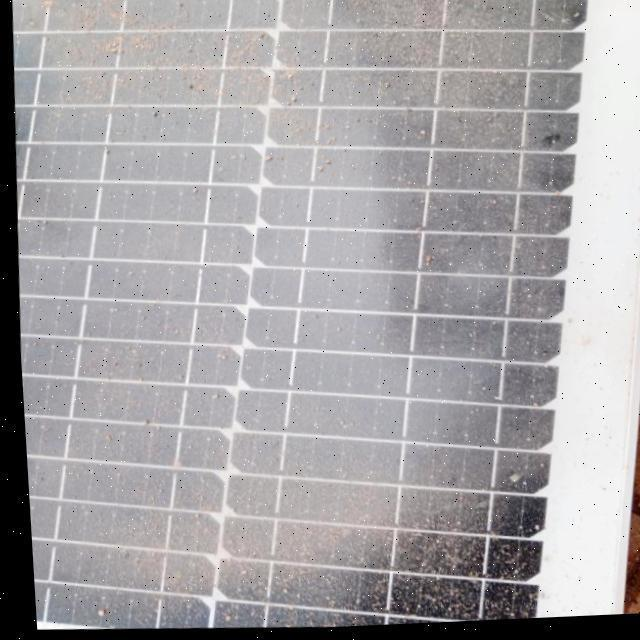Anomaly Solar Panel: (0, 0, 632, 640)
Surface Contaminant: (11, 0, 593, 625)
